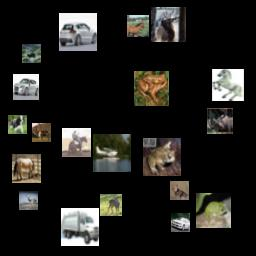airplane: (93, 134, 131, 172)
automobile: (59, 13, 97, 51), (13, 74, 39, 100), (171, 213, 190, 232)
bird: (22, 44, 41, 63)
deer: (151, 7, 186, 42), (207, 108, 233, 134), (100, 194, 122, 216), (19, 191, 38, 210), (32, 123, 51, 142)
dog: (8, 115, 27, 134), (170, 181, 189, 200)
frog: (143, 138, 181, 176), (196, 193, 231, 228), (134, 71, 169, 106)
truck: (61, 208, 99, 246)
